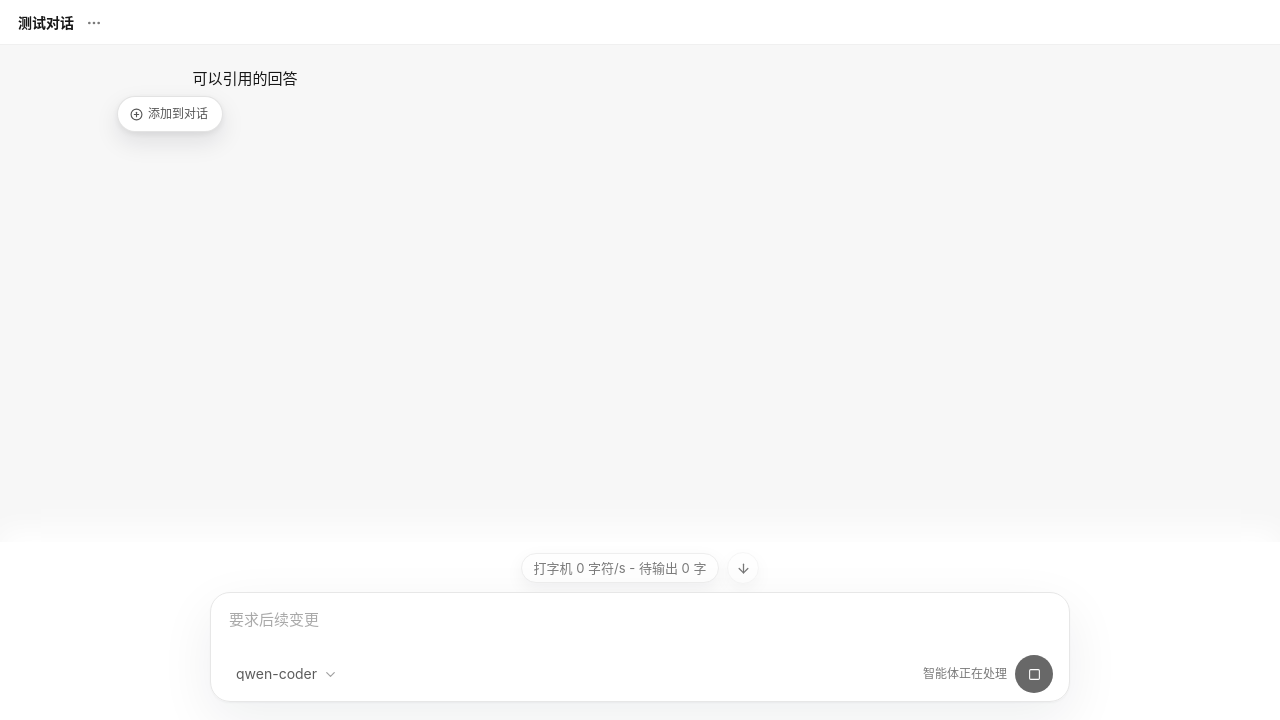
ConversationPage › quotes selected assistant text into the composer
expect the text box named "继续输入" is shown: met, box [227, 607, 1053, 655]
expect the text "可以引用的回答" is shown: met, box [192, 69, 298, 88]
Click the button with aria-label "添加选中文本到对话" at point(170, 114), box [124, 101, 216, 127]
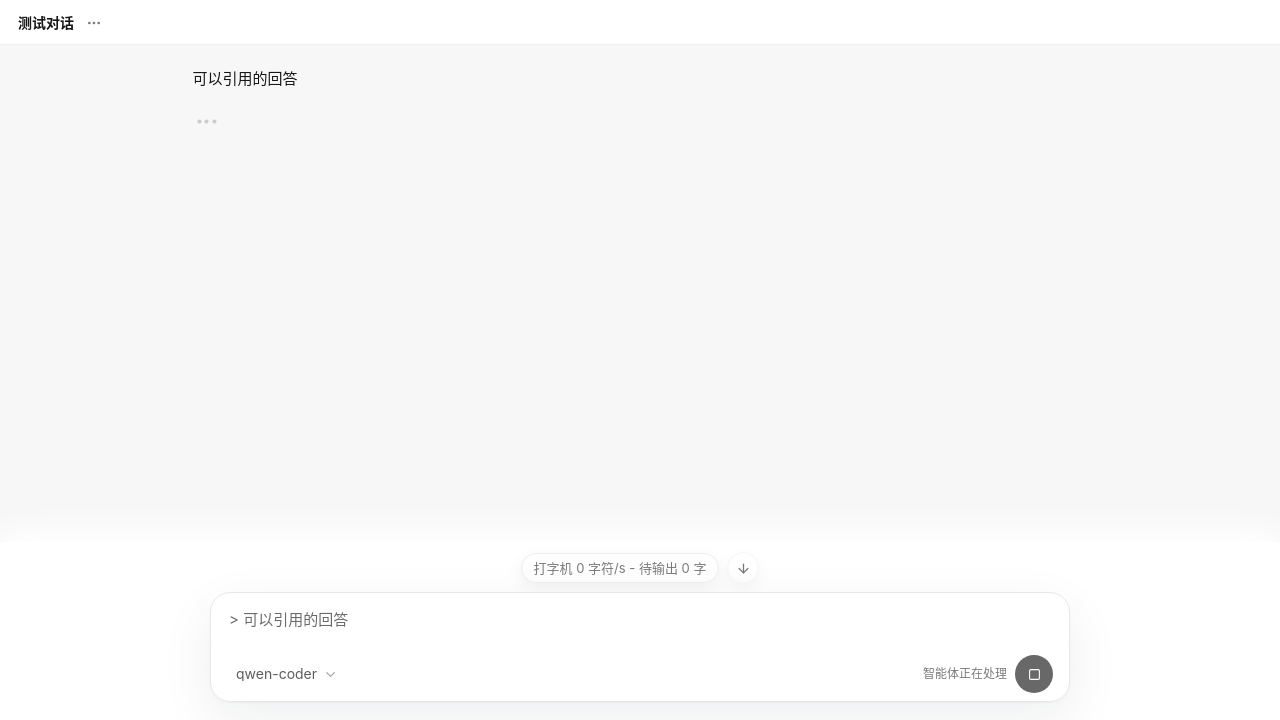
expect the text box named "继续输入" holds "> 可以引用的回答": met, box [227, 607, 1053, 655]
